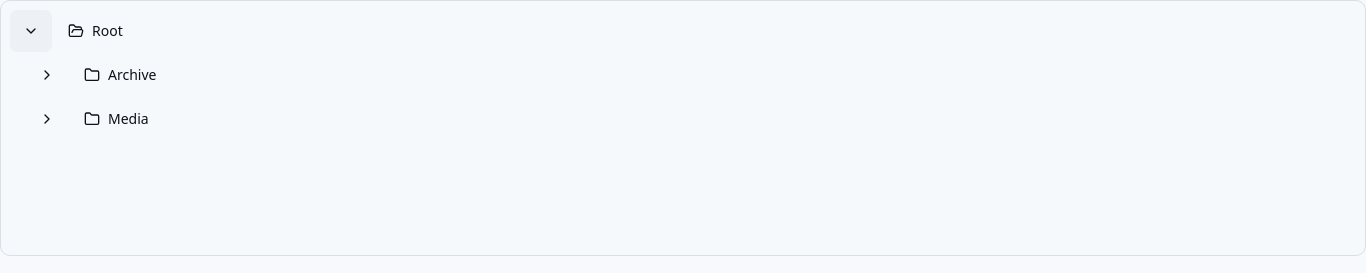
Test: DirectoryTree › loads the root and expands child folders lazily
Check: the button with aria-label "Select folder Archive" is shown, box x1=69 y1=53 x2=1357 y2=97
Click the button named "Expand folder Media" at (47,119), box x1=25 y1=97 x2=69 y2=141
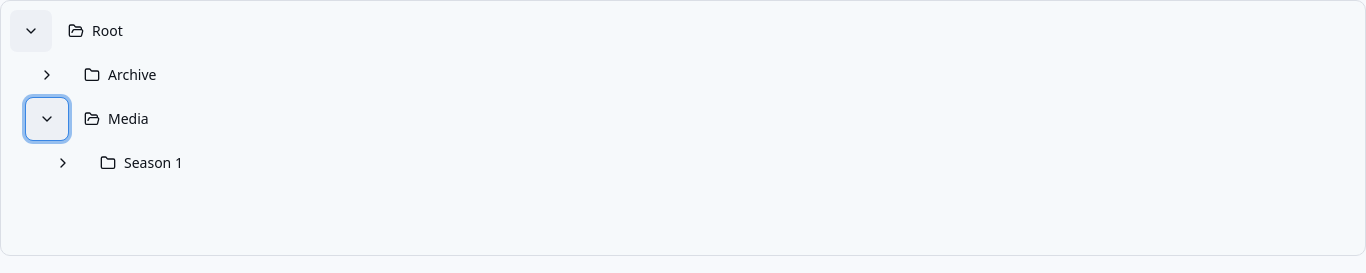
Check: the button with aria-label "Select folder Season 1" is shown, box x1=85 y1=141 x2=1357 y2=185
